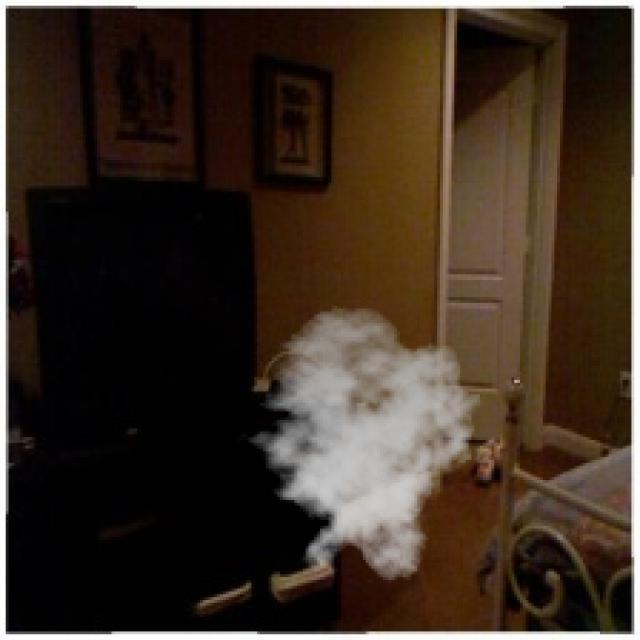Smoke: (237, 306, 489, 583)
